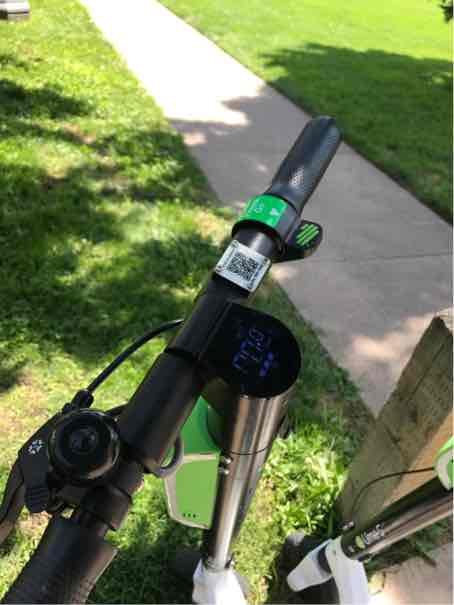scooter: (70, 108, 450, 605)
